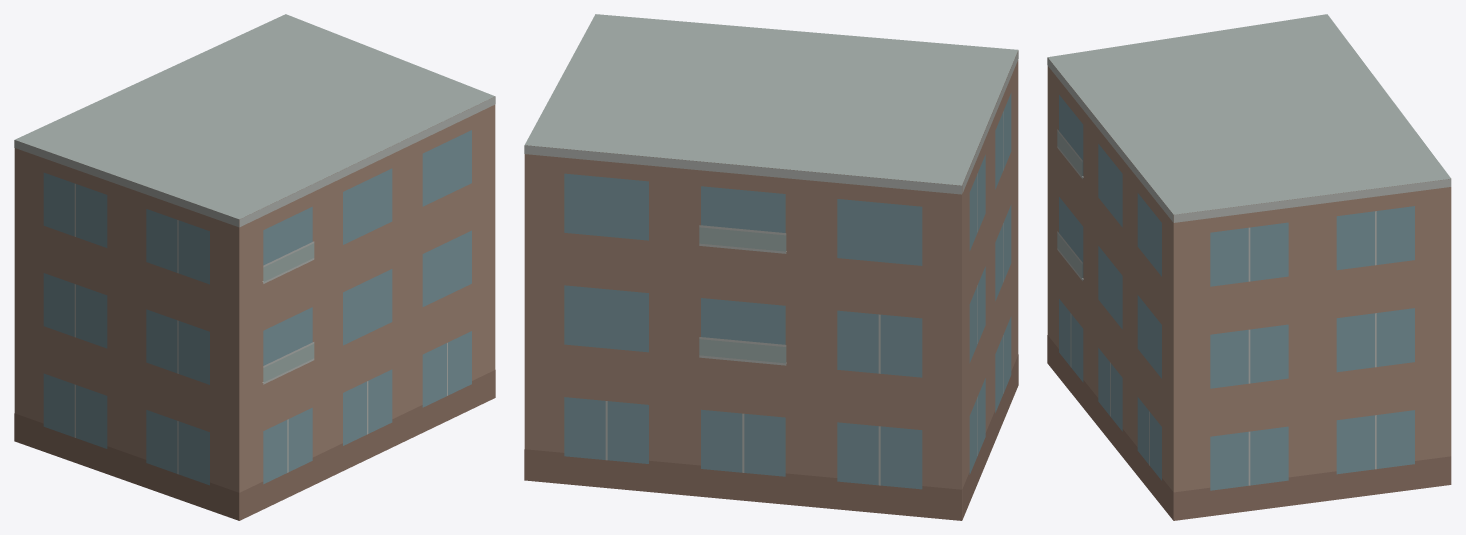
File: survey-upis-32621910.glb
The picture shows the model from 3 angles, left to right: view 1: azimuth 30°, elevation 25°; view 2: azimuth 150°, elevation 25°; view 3: azimuth 270°, elevation 25°; orthographic projection. The views are drawn at different scales.
Parts seen in each view (by area): view 1: survey-upis-32621910.tmp; view 2: survey-upis-32621910.tmp; view 3: survey-upis-32621910.tmp.
Boxes of the visible parts, box(x1,y1,x2,y2) form: survey-upis-32621910.tmp: box(14, 14, 495, 520); survey-upis-32621910.tmp: box(524, 14, 1018, 520); survey-upis-32621910.tmp: box(1047, 14, 1451, 520).
Bounding box in the file's own units: 12.88 × 9.15 × 10.95.
